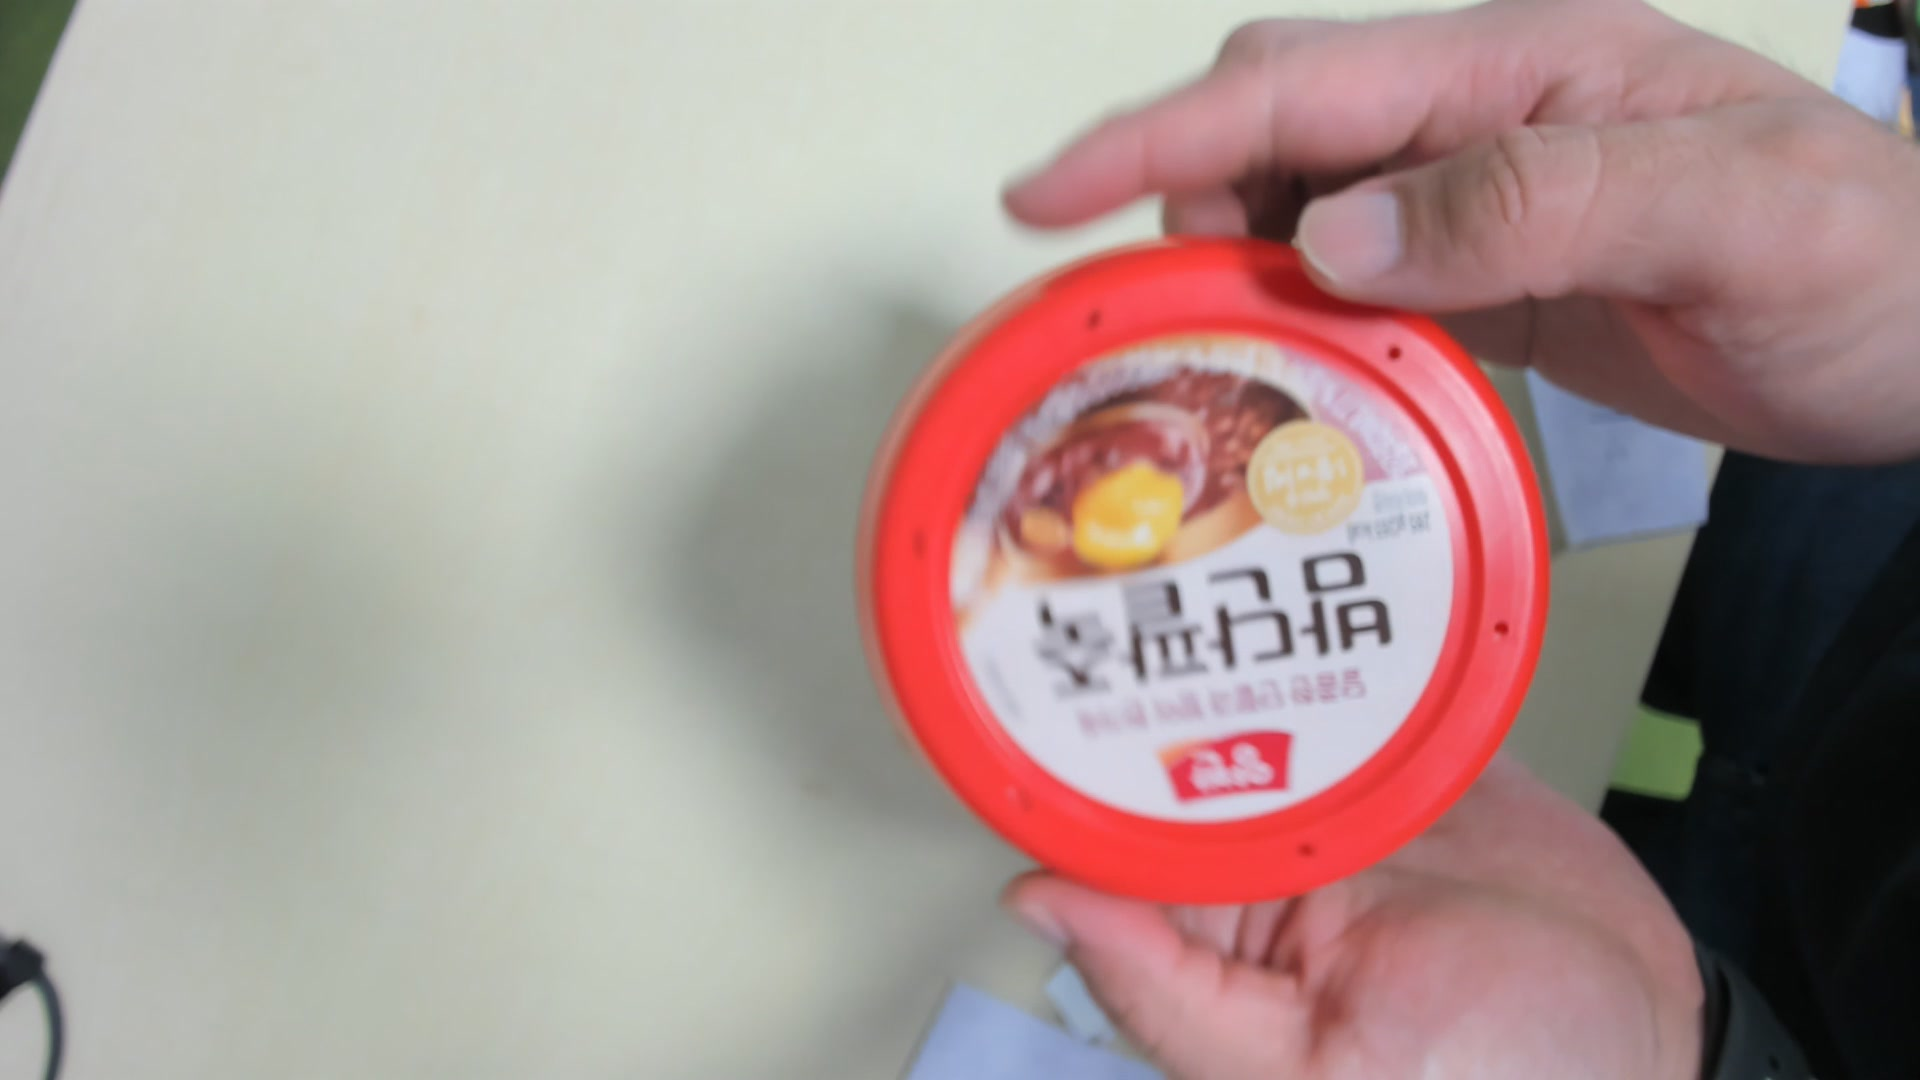InstantMeals_200_299g_NonHalal_NonHealthy: (856, 241, 1548, 914)
